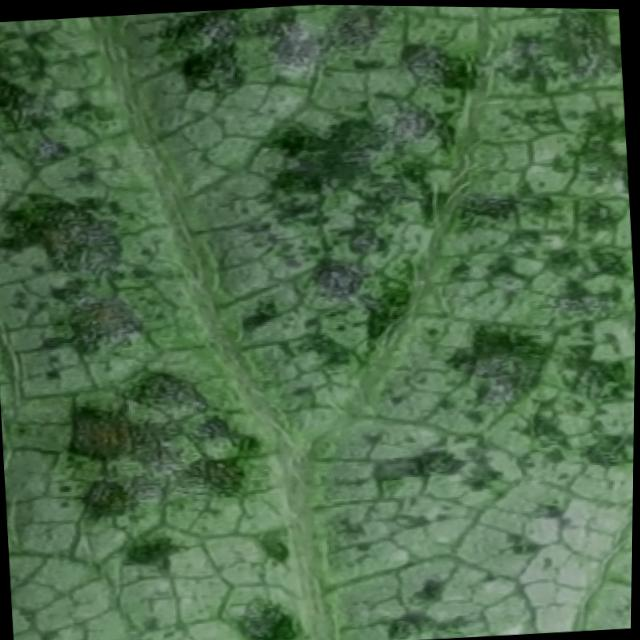Angular Leafspot: (0, 4, 636, 640)
